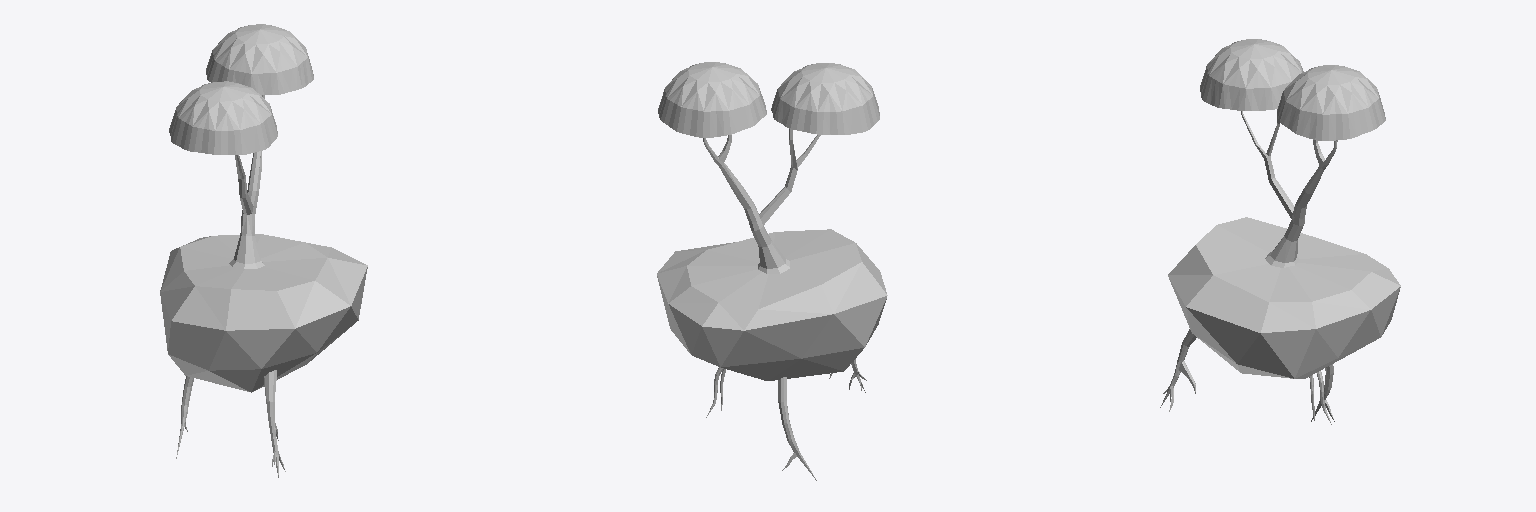
The model's file is O_JungleWorldIsland_b.obj.
The picture shows the model from 3 angles: view 1: azimuth 30°, elevation 25°; view 2: azimuth 150°, elevation 25°; view 3: azimuth 270°, elevation 25°; orthographic projection.
Visible parts, largest first — view 1: O_JungleWorldIsland_b; view 2: O_JungleWorldIsland_b; view 3: O_JungleWorldIsland_b.
Part boxes in pixels (x1,y1,x2,y2): O_JungleWorldIsland_b: (160,24,367,477); O_JungleWorldIsland_b: (657,62,887,480); O_JungleWorldIsland_b: (1160,39,1400,424).
Size of the model in its own units: 40.56 by 75.93 by 41.58.